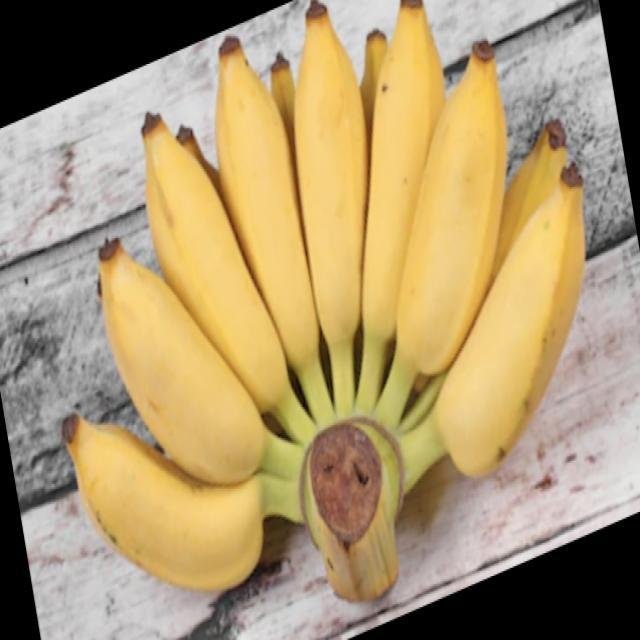Banana: (61, 0, 587, 602)
